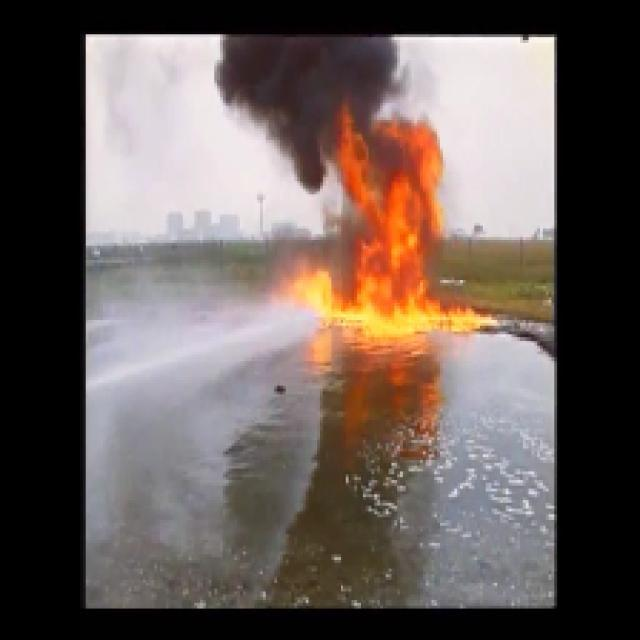Fire: (340, 132, 442, 328)
Smoke: (226, 40, 406, 120)
